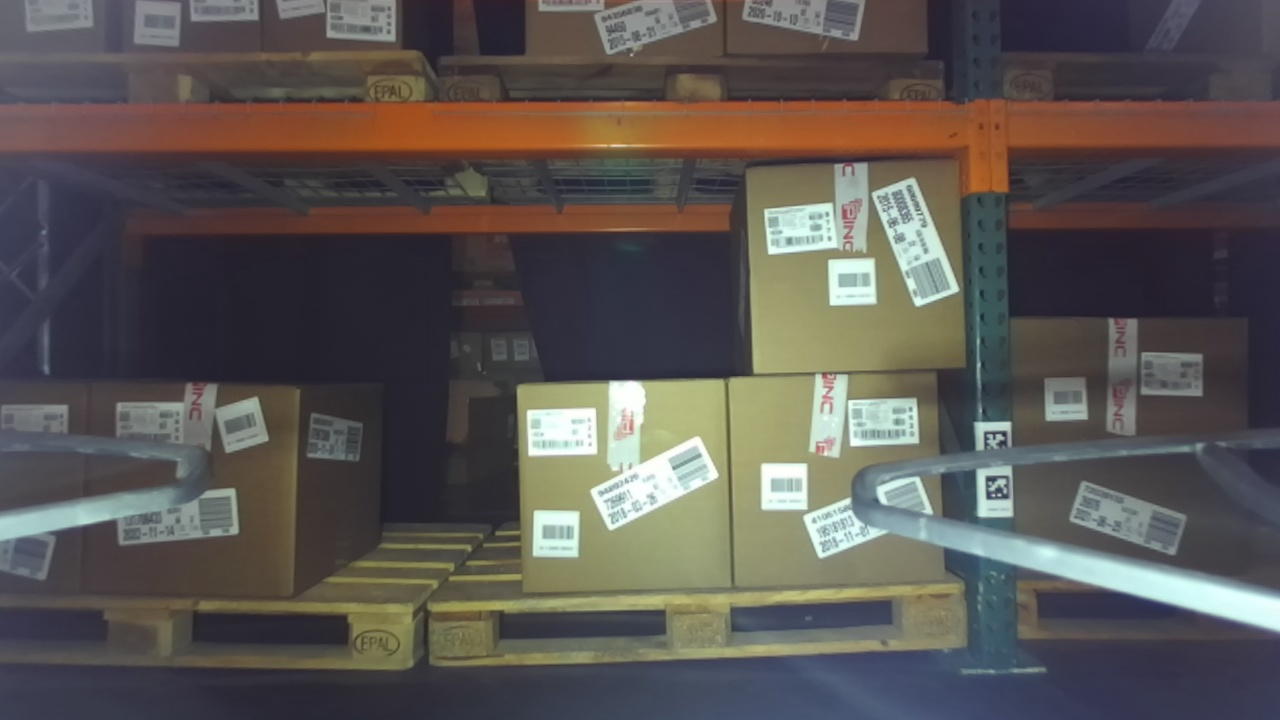box: (994, 303, 1260, 570), (70, 362, 341, 614), (709, 360, 974, 614), (496, 366, 764, 612), (722, 142, 988, 384)
